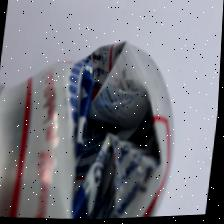metal: (0, 25, 188, 224)
